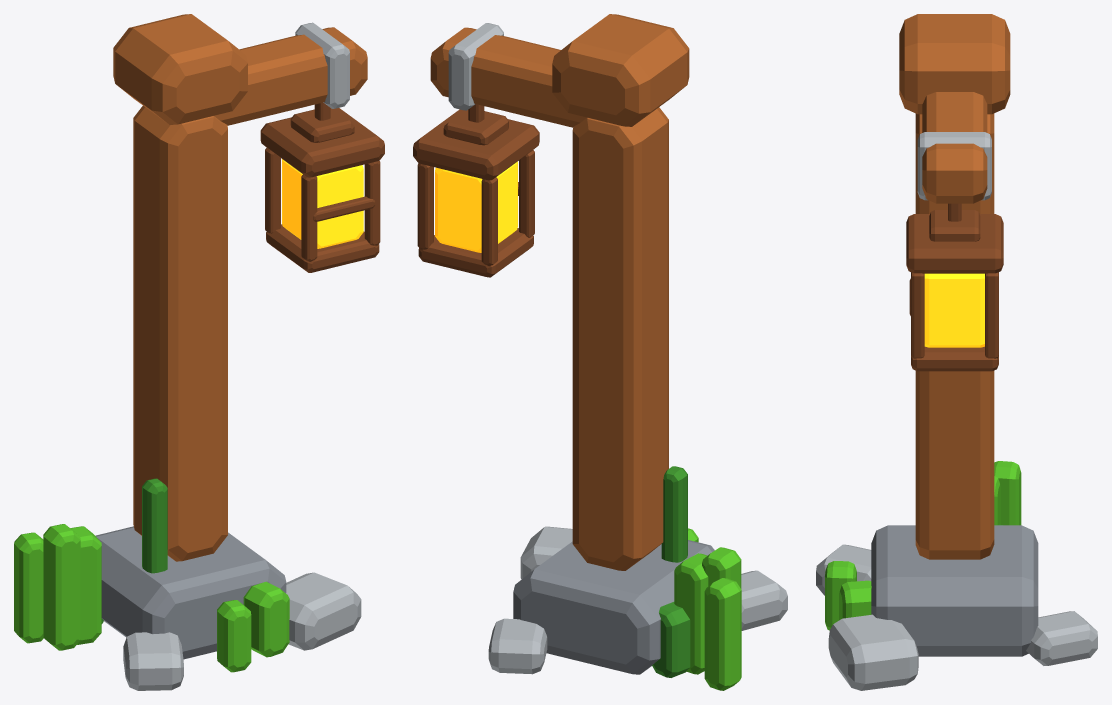
Rendered from DrownedVillage_Lantern_Post.glb.
3 renders of one model, left to right at view 1: azimuth 30°, elevation 25°; view 2: azimuth 150°, elevation 25°; view 3: azimuth 270°, elevation 25°, orthographic.
Parts seen in each view (by area): view 1: post_01, base_stone_01, post_cap_01, arm_01, reed_01, rubble_01, lantern_roof_01, lantern_glow_01, rubble_02, reed_04, reed_05, reed_02 (+9 smaller); view 2: post_01, base_stone_01, post_cap_01, arm_01, lantern_glow_01, lantern_roof_01, reed_04, rubble_03, reed_02, lantern_base_01, algae_strip_01, rubble_02 (+8 smaller); view 3: base_stone_01, post_01, post_cap_01, arm_01, rubble_01, lantern_glow_01, lantern_roof_01, rubble_03, lantern_base_01, arm_strap_01, lantern_roof_02, reed_04 (+5 smaller).
Boxes of the visible parts, <box> form: post_01: <box>133,106,227,561</box>; base_stone_01: <box>95,526,286,659</box>; post_cap_01: <box>113,14,247,124</box>; arm_01: <box>214,27,367,125</box>; reed_01: <box>43,524,80,650</box>; rubble_01: <box>286,572,361,650</box>; lantern_roof_01: <box>260,108,384,177</box>; lantern_glow_01: <box>282,159,363,248</box>; rubble_02: <box>123,632,183,690</box>; reed_04: <box>14,532,43,643</box>; reed_05: <box>243,581,289,657</box>; reed_02: <box>70,526,101,644</box>; post_01: <box>572,107,668,570</box>; base_stone_01: <box>513,540,714,674</box>; post_cap_01: <box>552,14,689,126</box>; arm_01: <box>430,27,586,127</box>; lantern_glow_01: <box>435,161,517,252</box>; lantern_roof_01: <box>413,109,539,180</box>; reed_04: <box>704,578,741,690</box>; rubble_03: <box>488,618,547,674</box>; reed_02: <box>674,553,708,674</box>; lantern_base_01: <box>418,228,533,277</box>; algae_strip_01: <box>661,466,687,562</box>; rubble_02: <box>741,570,787,630</box>; base_stone_01: <box>871,525,1038,656</box>; post_01: <box>915,113,994,559</box>; post_cap_01: <box>899,14,1010,114</box>; arm_01: <box>922,92,987,203</box>; rubble_01: <box>828,614,918,690</box>; lantern_glow_01: <box>924,273,984,347</box>; lantern_roof_01: <box>906,214,1003,273</box>; rubble_03: <box>1026,611,1097,665</box>; lantern_base_01: <box>911,346,998,371</box>; arm_strap_01: <box>917,132,991,200</box>; lantern_roof_02: <box>929,210,980,241</box>; reed_04: <box>994,461,1021,525</box>.
Bounding box in the file's own units: 1.64 × 2.87 × 1.22.
